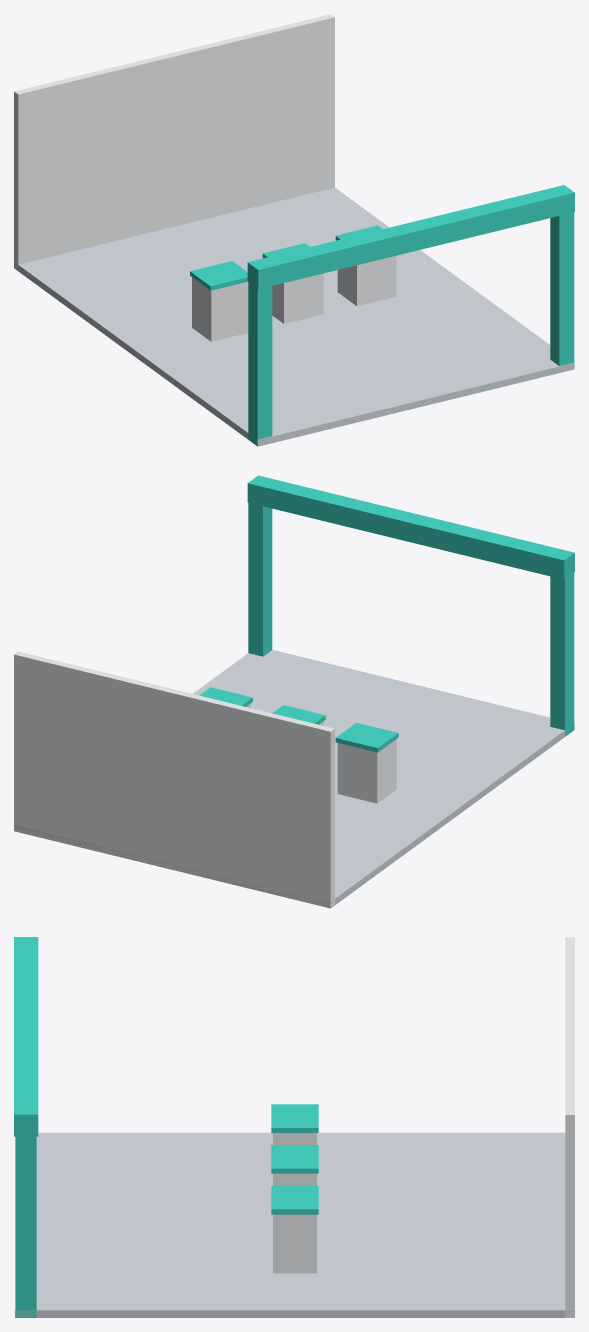
3 views of the same model, one above another, from view 1: azimuth 30°, elevation 25°; view 2: azimuth 150°, elevation 25°; view 3: azimuth 270°, elevation 25° (orthographic). The views are drawn at different scales.
Parts seen in each view (by area): view 1: Exhibition Booth Concept; view 2: Exhibition Booth Concept; view 3: Exhibition Booth Concept.
Part boxes in pixels (x1,y1,x2,y2): Exhibition Booth Concept: (14, 14, 574, 446); Exhibition Booth Concept: (14, 475, 574, 908); Exhibition Booth Concept: (14, 937, 574, 1317).
Bounding box in the file's own units: 6 × 3.2 × 8.01.
